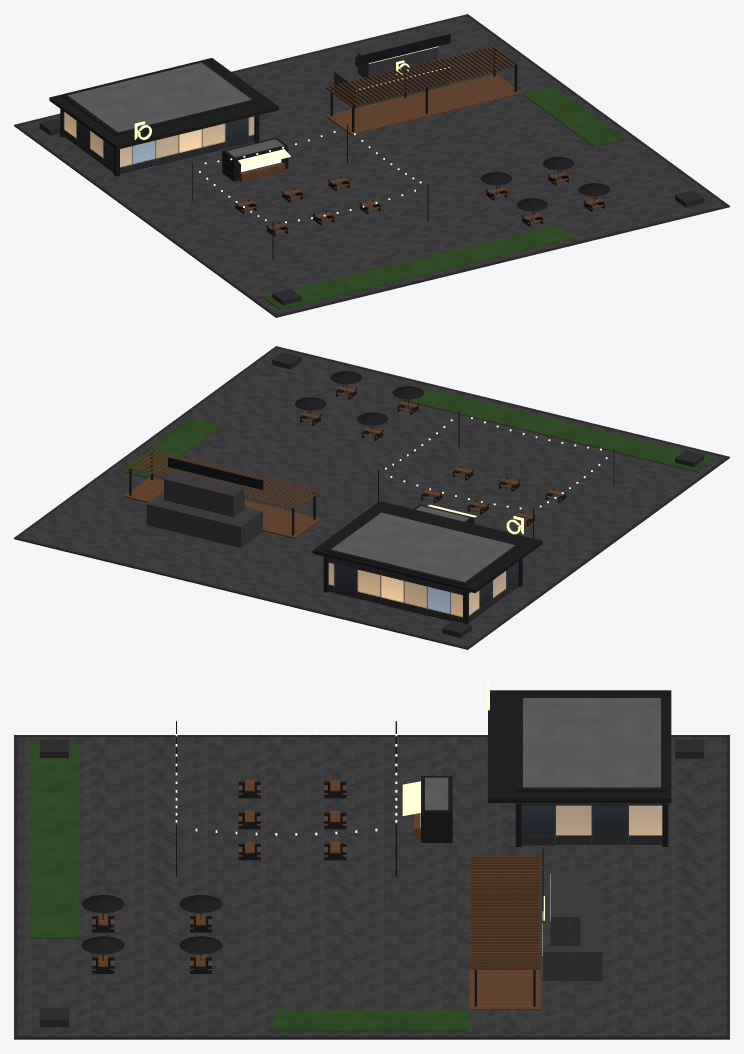
The model's file is fans_L3.glb.
3 views of the same model, one above another, from view 1: azimuth 30°, elevation 25°; view 2: azimuth 150°, elevation 25°; view 3: azimuth 270°, elevation 25° (orthographic). The views are drawn at different scales.
Parts seen in each view (by area): view 1: paving_fans_L3, wood_fans_L3, black_metal_fans_L3, lawn_fans_L3, roofing_fans_L3, concrete_dark_fans_L3, emissive_curtain_fans_L3, cladding_fans_L3, emissive_led_fans_L3, glass_fans_L3; view 2: paving_fans_L3, black_metal_fans_L3, roofing_fans_L3, lawn_fans_L3, emissive_curtain_fans_L3, cladding_fans_L3, wood_fans_L3, concrete_dark_fans_L3, glass_fans_L3; view 3: paving_fans_L3, black_metal_fans_L3, lawn_fans_L3, wood_fans_L3, roofing_fans_L3, concrete_dark_fans_L3, emissive_curtain_fans_L3, cladding_fans_L3, emissive_led_fans_L3.
Part boxes in pixels (box(x1,y1,x2,y2)): paving_fans_L3: box(18, 16, 725, 314); wood_fans_L3: box(116, 45, 605, 233); black_metal_fans_L3: box(49, 33, 610, 259); lawn_fans_L3: box(262, 86, 624, 309); roofing_fans_L3: box(68, 62, 283, 157); concrete_dark_fans_L3: box(14, 14, 729, 317); emissive_curtain_fans_L3: box(64, 112, 254, 174); cladding_fans_L3: box(334, 35, 450, 107); emissive_led_fans_L3: box(134, 46, 449, 167); glass_fans_L3: box(355, 34, 450, 66); paving_fans_L3: box(18, 348, 725, 646); black_metal_fans_L3: box(129, 371, 614, 624); roofing_fans_L3: box(331, 506, 515, 582); lawn_fans_L3: box(119, 386, 713, 477); emissive_curtain_fans_L3: box(328, 557, 518, 622); cladding_fans_L3: box(146, 471, 262, 547); wood_fans_L3: box(124, 386, 567, 592); concrete_dark_fans_L3: box(14, 346, 729, 649); glass_fans_L3: box(168, 458, 263, 489); paving_fans_L3: box(17, 737, 726, 1036); black_metal_fans_L3: box(81, 690, 671, 1006); lawn_fans_L3: box(30, 741, 469, 1031); wood_fans_L3: box(92, 780, 670, 1010); roofing_fans_L3: box(425, 698, 660, 810); concrete_dark_fans_L3: box(14, 735, 729, 1039); emissive_curtain_fans_L3: box(521, 803, 662, 845); cladding_fans_L3: box(543, 870, 602, 980); emissive_led_fans_L3: box(402, 678, 550, 955).
Bounding box in the file's own units: 58.6 × 7.25 × 58.6.
11 materials, 6 textured.
